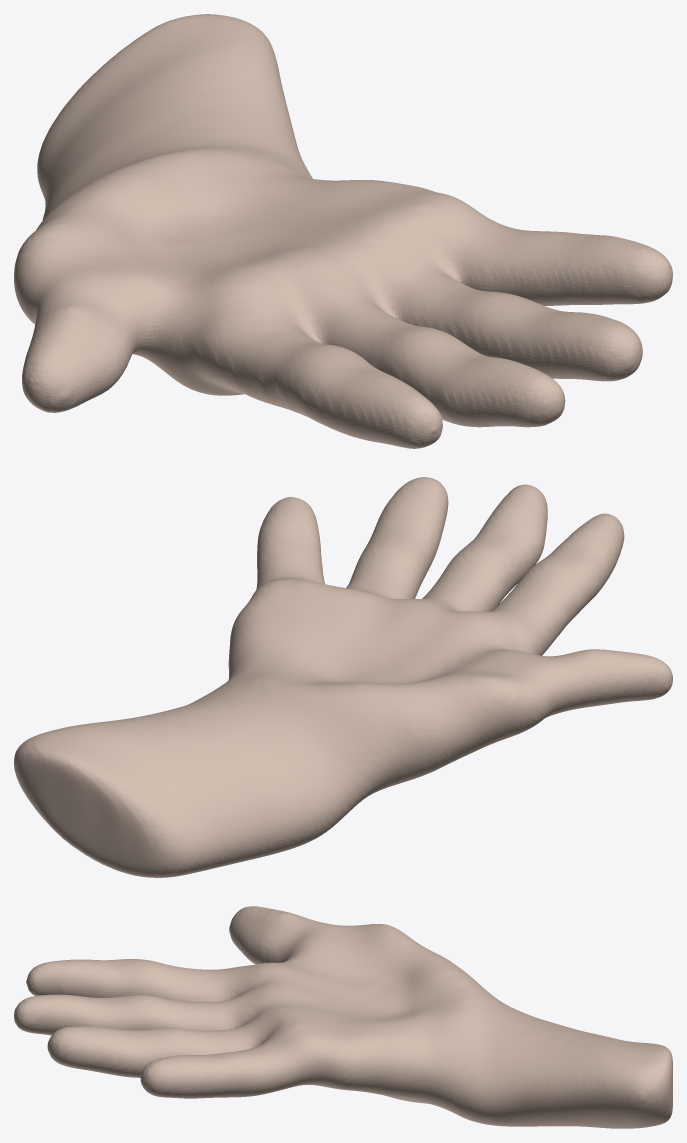
The model's file is hand.glb.
3 views of the same model, one above another, from view 1: azimuth 30°, elevation 25°; view 2: azimuth 150°, elevation 25°; view 3: azimuth 270°, elevation 25° (orthographic). The views are drawn at different scales.
Visible parts, largest first — view 1: world; view 2: world; view 3: world.
Part boxes in pixels (bbox=[...]): world: bbox=[14, 14, 672, 448]; world: bbox=[14, 477, 672, 877]; world: bbox=[14, 906, 672, 1128].
Bounding box in the file's own units: 160 × 49.28 × 240.
